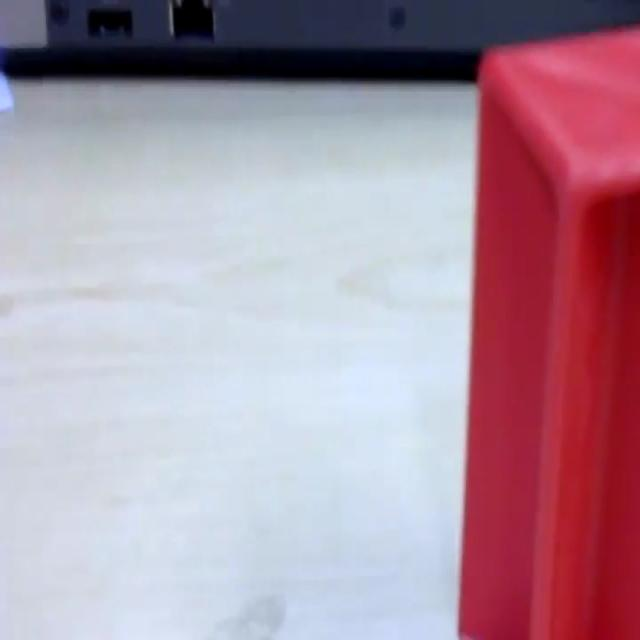red_block: (456, 24, 638, 636)
